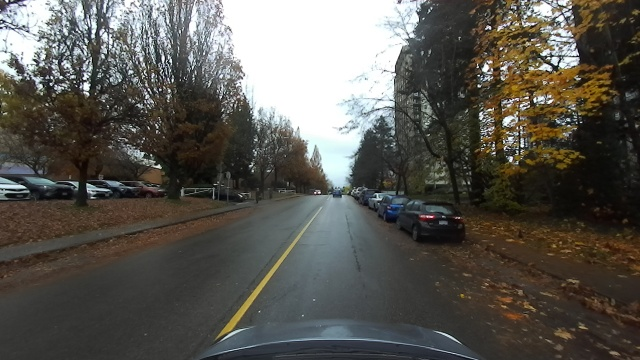car: (395, 198, 469, 246), (20, 176, 74, 199), (375, 193, 408, 224), (97, 179, 143, 199), (72, 178, 112, 200), (212, 185, 249, 205), (1, 178, 32, 199), (131, 179, 169, 195), (358, 189, 375, 205), (331, 186, 342, 198), (312, 189, 322, 195)
